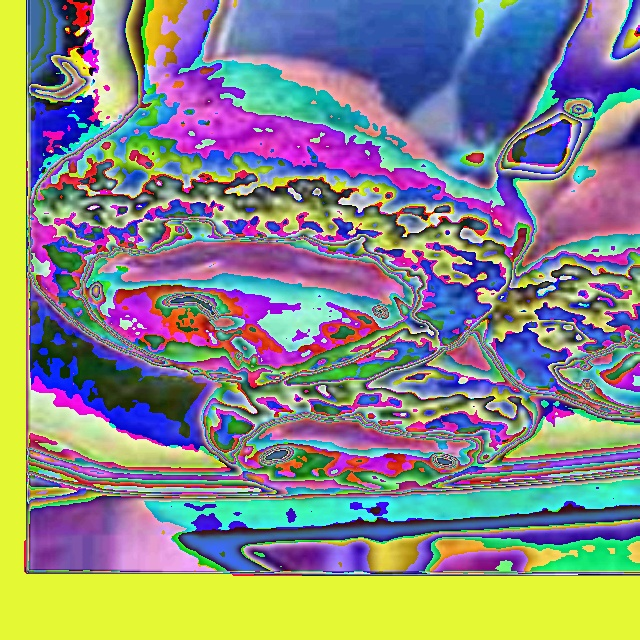background: (28, 53, 639, 499)
